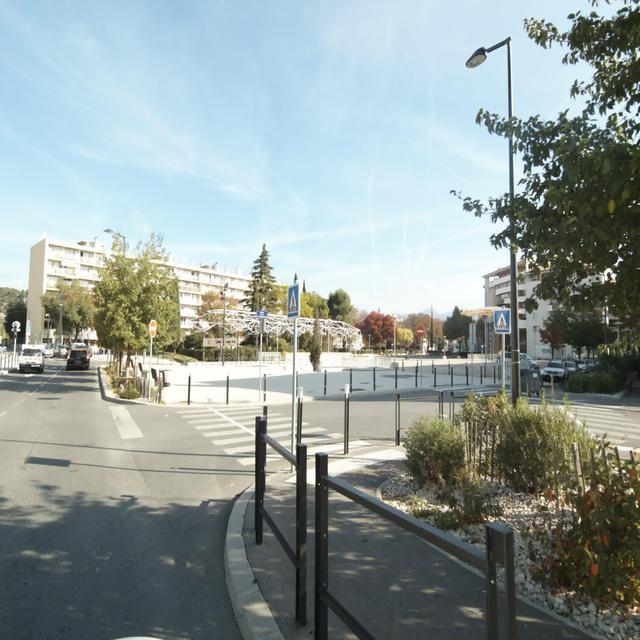Billboard: (202, 338, 236, 346), (26, 319, 31, 335)
Car: (0, 343, 45, 373), (505, 352, 539, 368), (66, 349, 91, 370)
Trash Can: (520, 368, 540, 396), (162, 371, 169, 386)
Vegetation: (39, 232, 237, 369), (395, 304, 471, 353), (0, 287, 27, 339), (334, 333, 344, 351)
